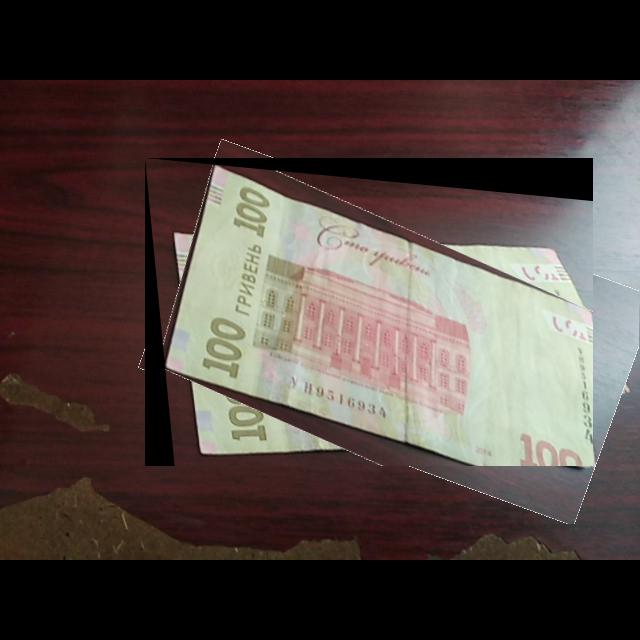100uah: (162, 164, 594, 467)
